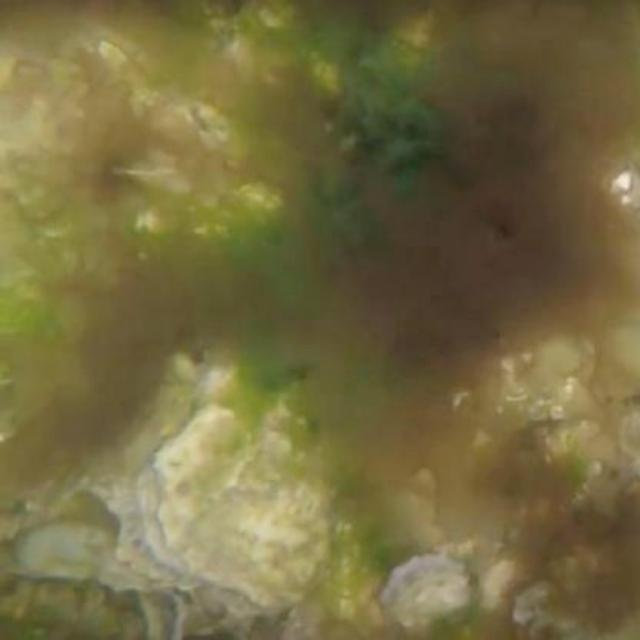Oyster-Closed: (140, 403, 331, 608), (11, 518, 151, 588)
Oyster-Open: (385, 554, 473, 631), (140, 593, 190, 640)
